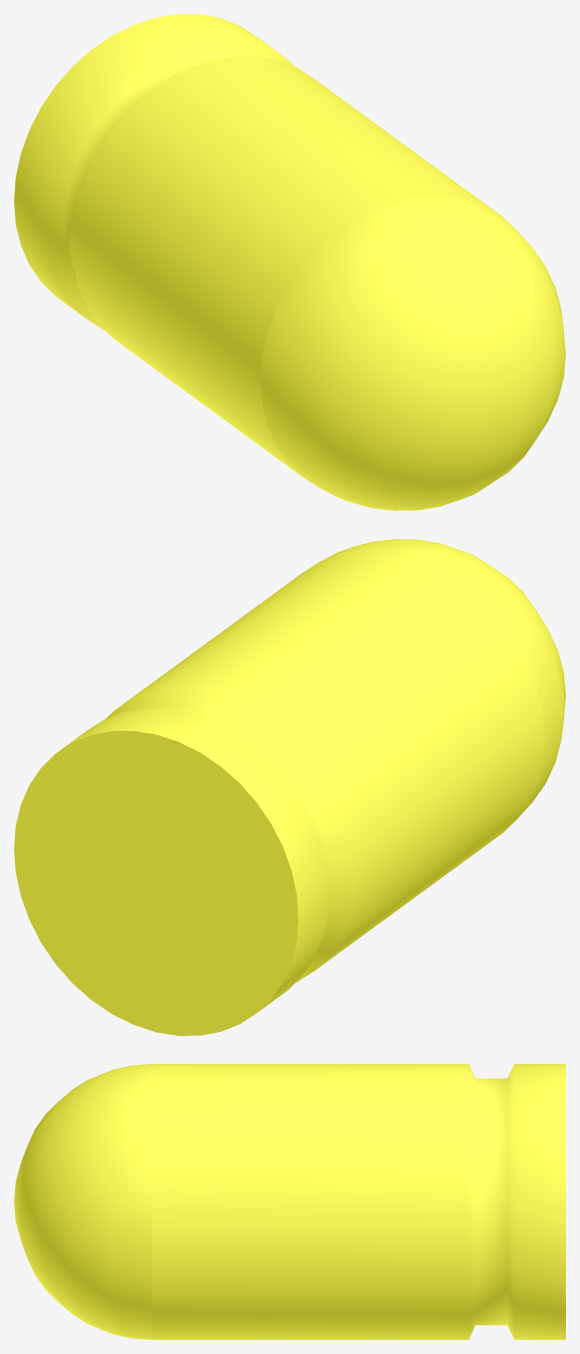
Rendered from Bullet.fbx.
3 views of the same model, one above another, from view 1: azimuth 30°, elevation 25°; view 2: azimuth 150°, elevation 25°; view 3: azimuth 270°, elevation 25° (orthographic). The views are drawn at different scales.
Parts seen in each view (by area): view 1: Obj_Bullet; view 2: Obj_Bullet; view 3: Obj_Bullet.
Boxes of the visible parts, x1,y1,x2,y2 form: Obj_Bullet: (14,14,565,510); Obj_Bullet: (14,539,565,1035); Obj_Bullet: (14,1064,565,1339).
Size of the model in its own units: 6 by 6 by 12.
